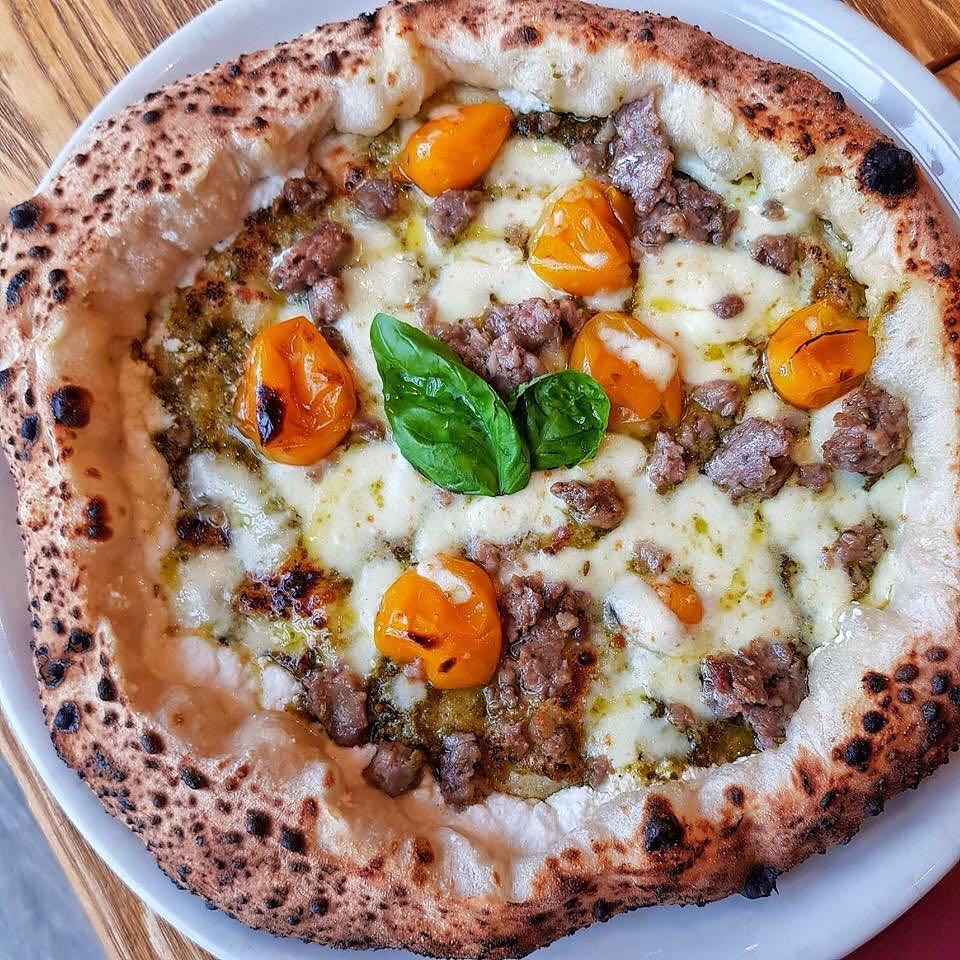Basil: (372, 314, 535, 492), (508, 372, 612, 476)
Cheese: (551, 467, 772, 663), (217, 462, 512, 580), (736, 472, 886, 674), (872, 316, 960, 635), (329, 214, 539, 312), (636, 242, 793, 332)
Pizza: (2, 2, 960, 959)
Tomatoes: (230, 314, 355, 456), (742, 282, 884, 407), (387, 570, 500, 694), (571, 316, 684, 438), (372, 106, 515, 189), (528, 188, 623, 294)
